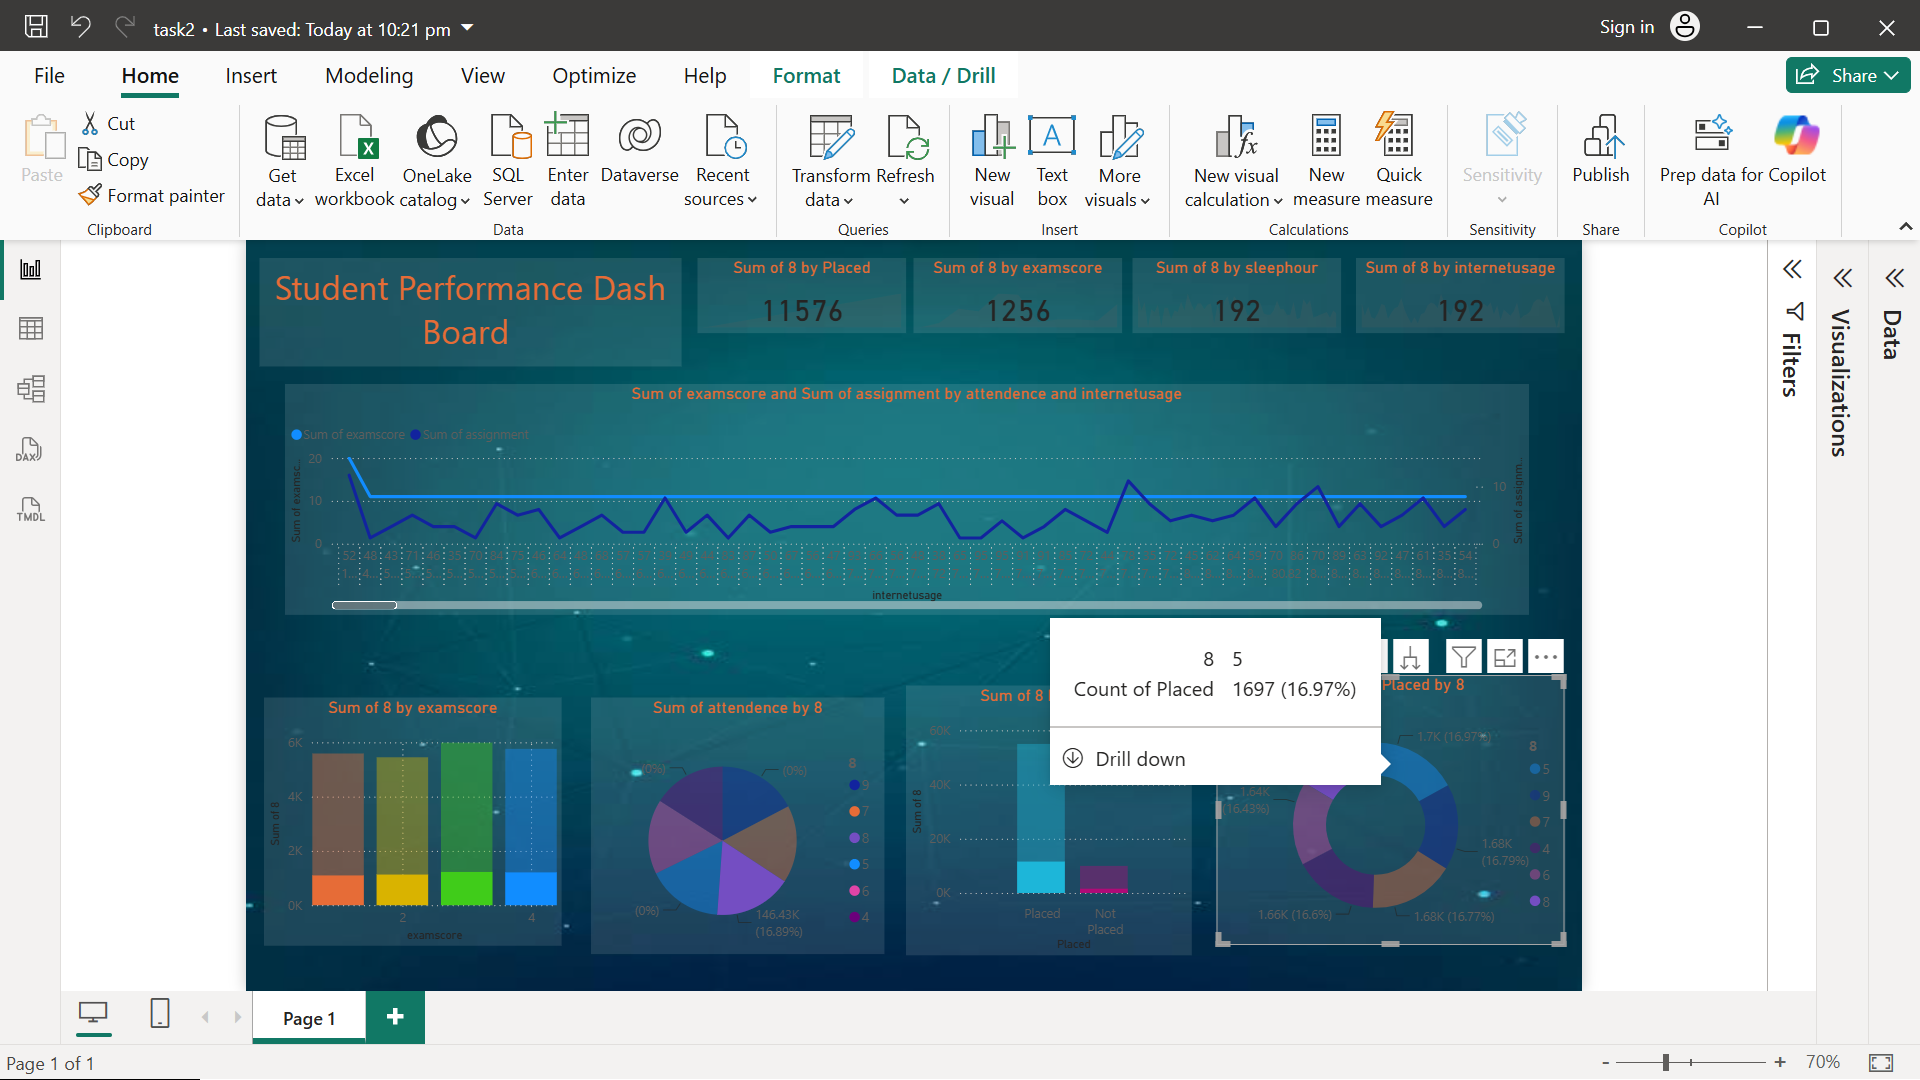

What the dashboard file says about the page in this screenshot:
{"tool":"powerbi","page":{"name":"Page 1","canvas":[1280,720],"ordinal":0},"visuals":[{"type":"clusteredColumnChart","fields":{"Category":["student_dataset_10000_rows.examscore"],"Y":["Sum(student_dataset_10000_rows.8)"]},"box":[17,438.4,285.4,238.1],"z":0},{"type":"pieChart","fields":{"Category":["student_dataset_10000_rows.8"],"Y":["Sum(student_dataset_10000_rows.attendence)"]},"box":[330.7,438.4,281.6,245.7],"z":1},{"type":"columnChart","fields":{"Category":["student_dataset_10000_rows.Placed"],"Y":["Sum(student_dataset_10000_rows.8)"]},"box":[633.1,427.1,274,258.9],"z":2},{"type":"lineChart","fields":{"Category":["student_dataset_10000_rows.attendence","student_dataset_10000_rows.internetusage"],"Y":["Sum(student_dataset_10000_rows.examscore)"],"Y2":["Sum(student_dataset_10000_rows.assignment)"]},"box":[37.8,138,1192.5,221.1],"z":3},{"type":"textbox","box":[13.2,17,404.4,103.9],"z":4},{"type":"kpi","fields":{"TrendLine":["student_dataset_10000_rows.Placed"],"Indicator":["Sum(student_dataset_10000_rows.8)"]},"box":[432.8,17,200.3,71.8],"z":5},{"type":"kpi","fields":{"TrendLine":["student_dataset_10000_rows.sleephour"],"Indicator":["Sum(student_dataset_10000_rows.8)"]},"box":[850.4,17,200.3,71.8],"z":6},{"type":"kpi","fields":{"TrendLine":["student_dataset_10000_rows.examscore"],"Indicator":["Sum(student_dataset_10000_rows.8)"]},"box":[640.6,17,200.3,71.8],"z":7},{"type":"kpi","fields":{"TrendLine":["student_dataset_10000_rows.internetusage"],"Indicator":["Sum(student_dataset_10000_rows.8)"]},"box":[1063.9,17,200.3,71.8],"z":8},{"type":"donutChart","fields":{"Category":["student_dataset_10000_rows.8","student_dataset_10000_rows.examscore"],"Y":["CountNonNull(student_dataset_10000_rows.Placed)"]},"box":[929.8,417.6,334.5,258.9],"z":9}]}

Visuals, with their boxes on the page's 1280x720 design canvas (x1, y1, x2, y2). These are canvas units, not pixel positions in the 1920x1080 screenshot, which may show the page scaled, cropped or inside an application window:
clusteredColumnChart - student_dataset_10000_rows.examscore x Sum(student_dataset_10000_rows.8): (left=17, top=438, right=302, bottom=676)
pieChart - student_dataset_10000_rows.8 x Sum(student_dataset_10000_rows.attendence): (left=331, top=438, right=612, bottom=684)
columnChart - student_dataset_10000_rows.Placed x Sum(student_dataset_10000_rows.8): (left=633, top=427, right=907, bottom=686)
lineChart - student_dataset_10000_rows.attendence x student_dataset_10000_rows.internetusage: (left=38, top=138, right=1230, bottom=359)
textbox: (left=13, top=17, right=418, bottom=121)
kpi - student_dataset_10000_rows.Placed x Sum(student_dataset_10000_rows.8): (left=433, top=17, right=633, bottom=89)
kpi - student_dataset_10000_rows.sleephour x Sum(student_dataset_10000_rows.8): (left=850, top=17, right=1051, bottom=89)
kpi - student_dataset_10000_rows.examscore x Sum(student_dataset_10000_rows.8): (left=641, top=17, right=841, bottom=89)
kpi - student_dataset_10000_rows.internetusage x Sum(student_dataset_10000_rows.8): (left=1064, top=17, right=1264, bottom=89)
donutChart - student_dataset_10000_rows.8 x student_dataset_10000_rows.examscore: (left=930, top=418, right=1264, bottom=676)
